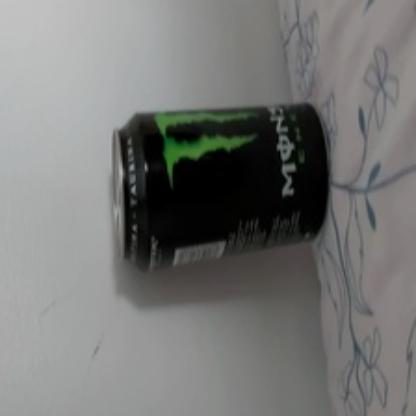Can: (112, 100, 330, 274)
